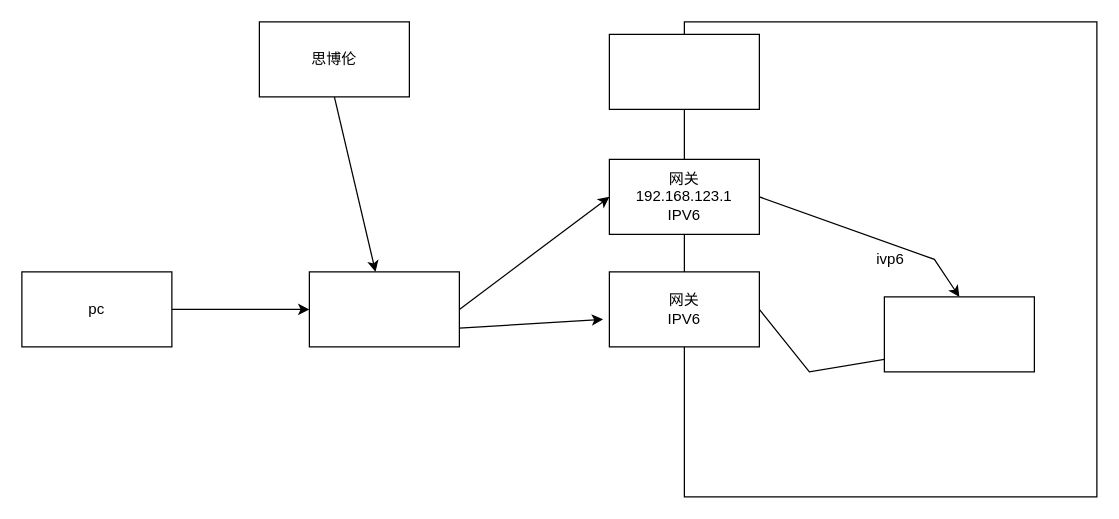
Some shapes in this 1119 by 519 pixel diagram are drawn without their labels. The shapes that lost their labels are listed below. From the top down, each one's centre as x and y in pixels, then its label:
[683,71]: 控制器
[383,309]: 三层交换机
[958,334]: 业务 ipv6
